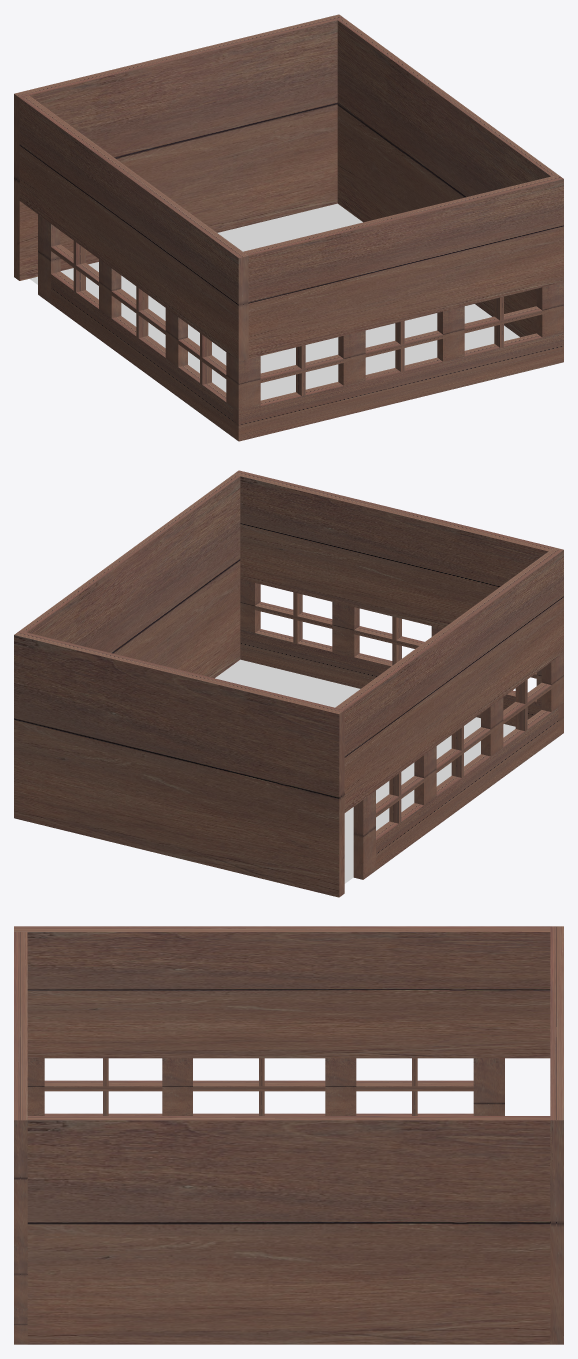
Rendered from SM_Pub.fbx.
The picture shows the model from 3 angles, top to bottom: view 1: azimuth 30°, elevation 25°; view 2: azimuth 150°, elevation 25°; view 3: azimuth 270°, elevation 25°; orthographic projection. The views are drawn at different scales.
Parts seen in each view (by area): view 1: SM_Pub; view 2: SM_Pub; view 3: SM_Pub.
Part boxes in pixels (left/top/right/bottom): SM_Pub: left=14, top=14, right=563, bottom=441; SM_Pub: left=14, top=470, right=563, bottom=897; SM_Pub: left=14, top=926, right=563, bottom=1344.
Size of the model in its own units: 846 by 456 by 1013.
